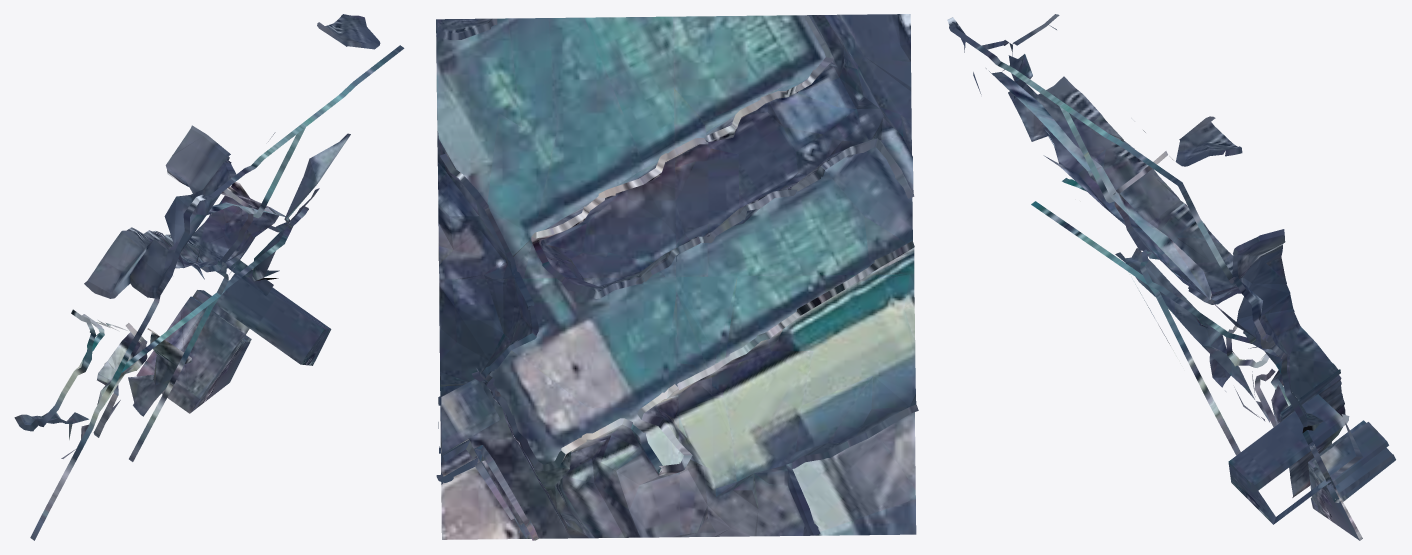
The picture shows the model from 3 angles, left to right: view 1: azimuth 30°, elevation 25°; view 2: azimuth 150°, elevation 25°; view 3: azimuth 270°, elevation 25°; orthographic projection. The views are drawn at different scales.
Bounding box in the file's own units: 38.98 × 37.22 × 34.8.
2 materials, 2 textured.
